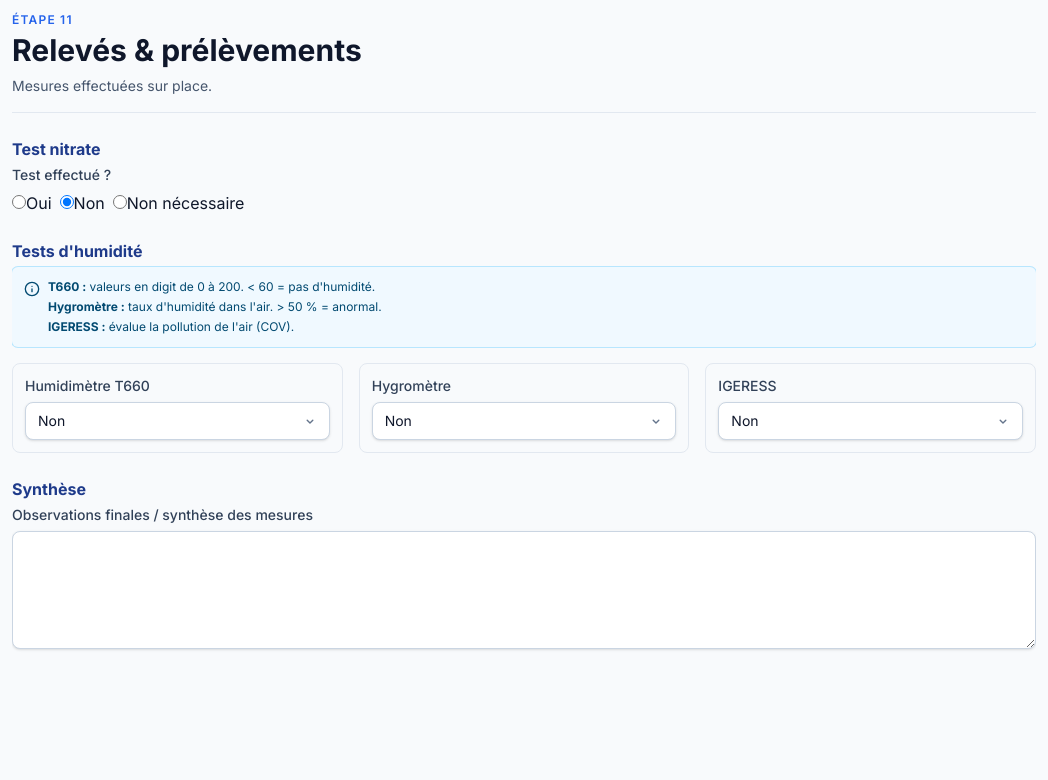
Test: Step11Releves › RadioGroup Test nitrate › passe à "Oui" et déclenche l'affichage de la liste des relevés
The image size is (1048, 780).
Expected: the text "Ajouter un relevé" is not shown
Click the radio button labelled "Oui" at x=19, y=202, box [12,195,26,209]
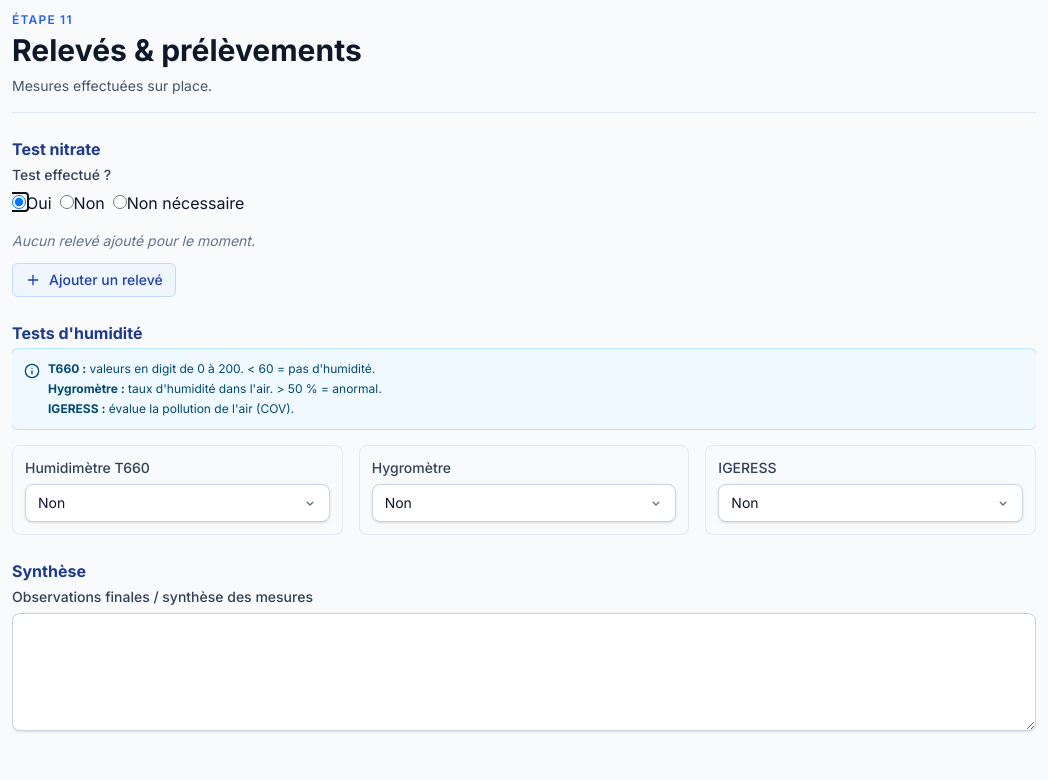
Expected: the label "Oui" is shown, [12,191,52,215]
Now the button "Ajouter un relevé" is shown, box [12,263,176,297]
